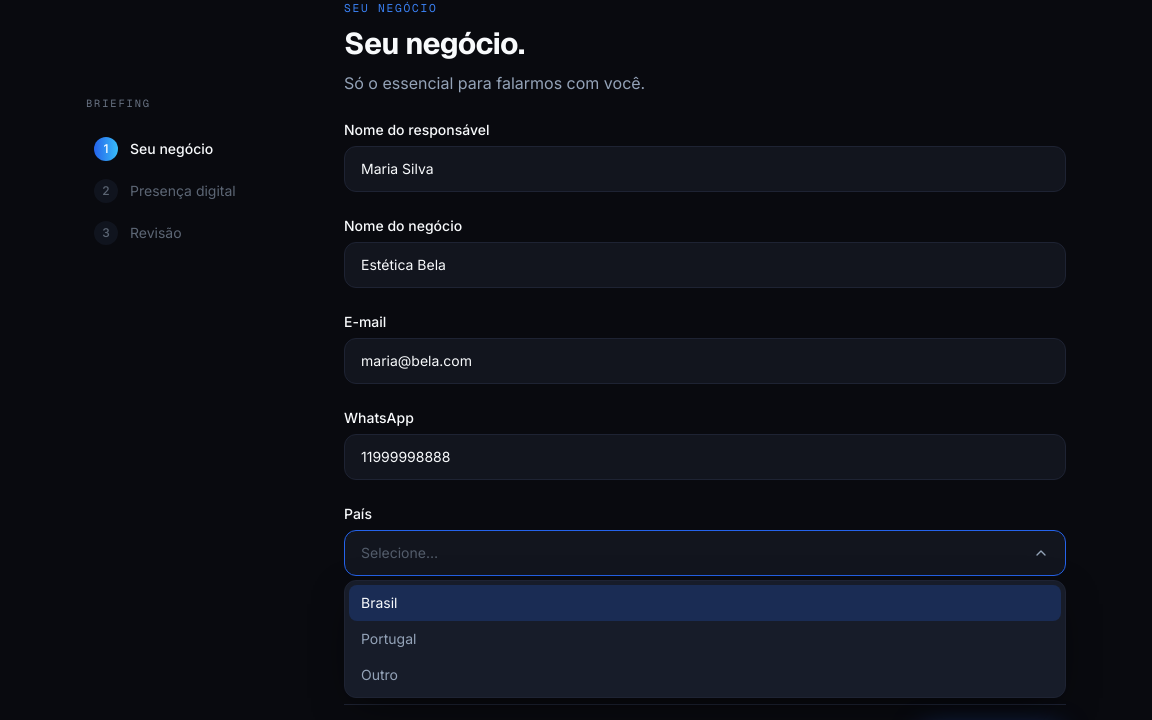
Scenario: BriefingForm (diagnostico) › requires privacy consent and then submits, redirecting on success
Earlier steps of the test are not shown.
Later steps or results of the test are not shown.
Step 1. Click the option "Brasil" → {"x": 379, "y": 602}, box [349,585,1061,621]
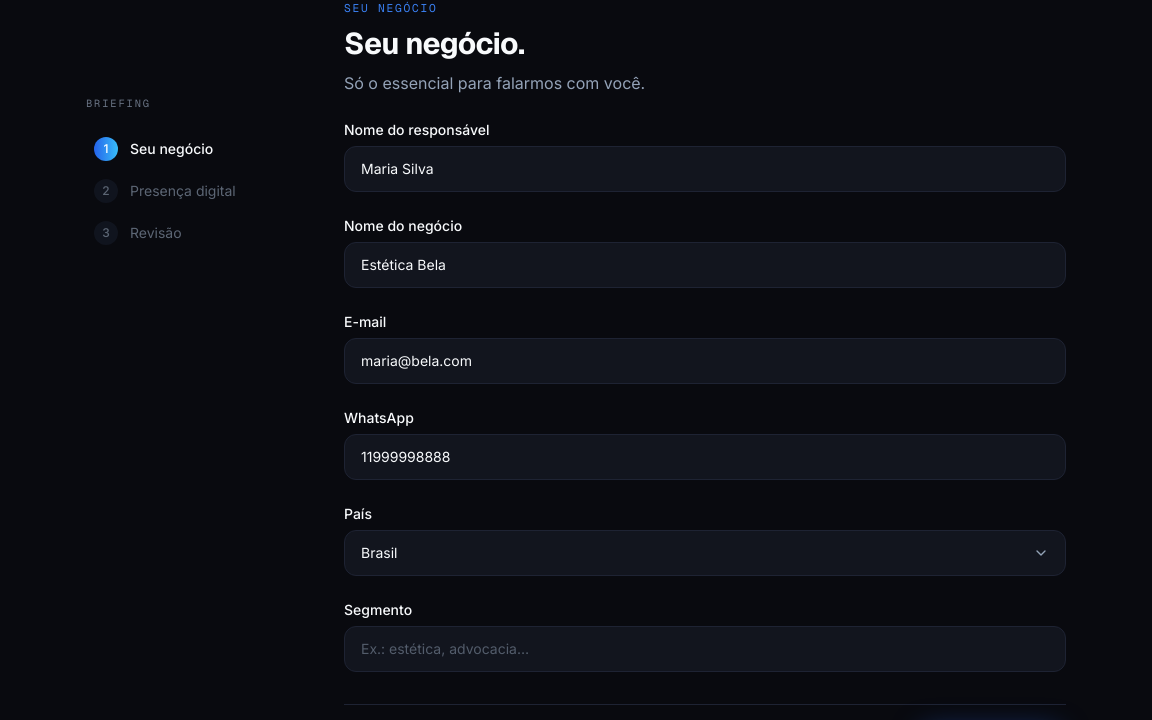
Step 2. Type "Estética" into the field labelled "Segmento" → {"x": 705, "y": 649}, box [344,626,1066,672]
(page scrolled)
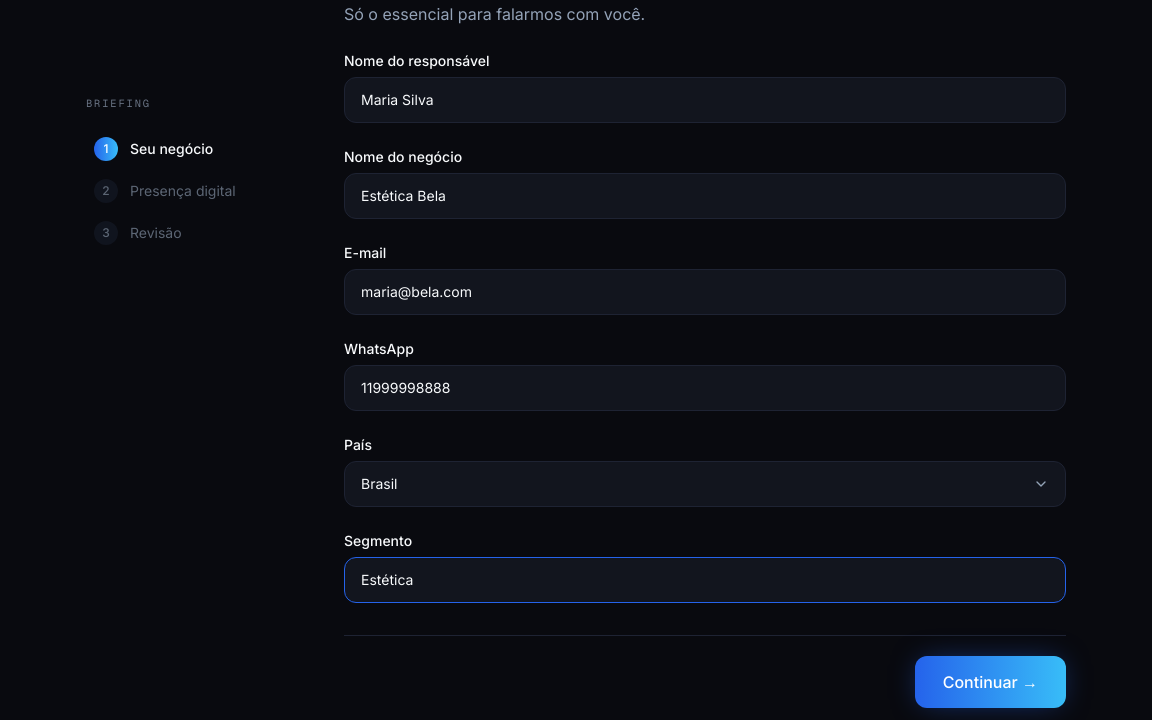
Step 3. Click the button "Continuar →" → {"x": 990, "y": 682}, box [915,656,1066,708]
(page scrolled)
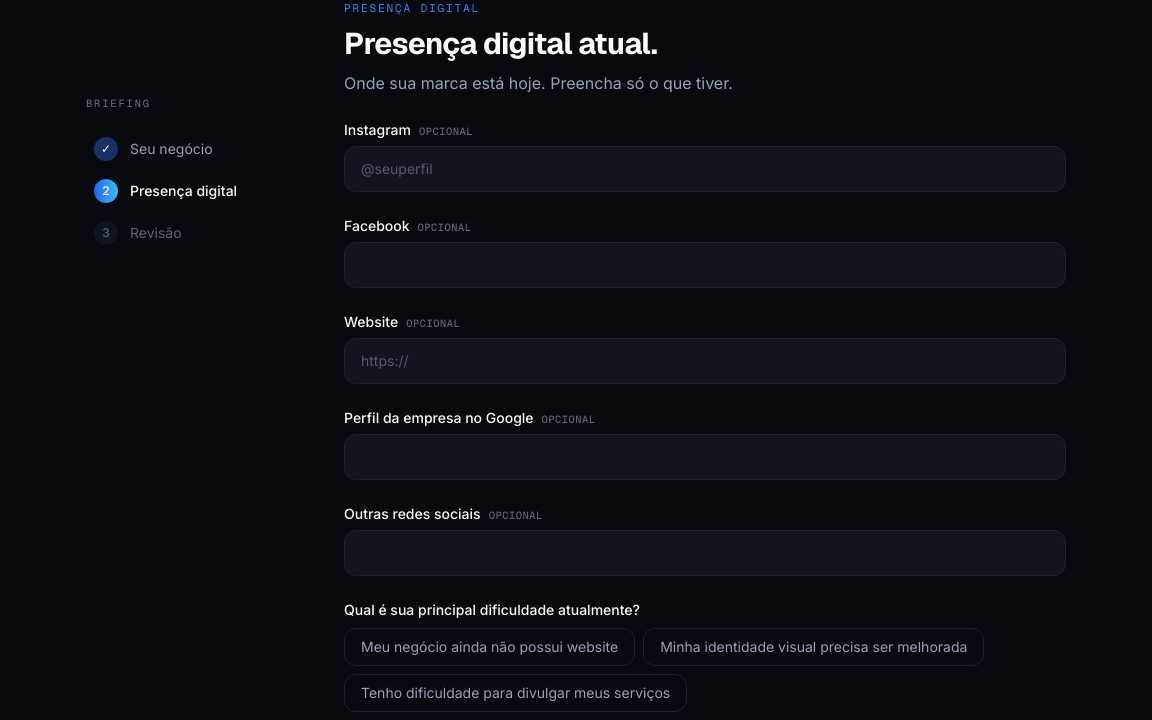
Expected: the heading "Presença digital atual." is shown, [344,24,657,63]
Step 4. Click the radio button labelled "Meu negócio ainda não possui website" → {"x": 490, "y": 647}, box [344,628,635,666]
(page scrolled)
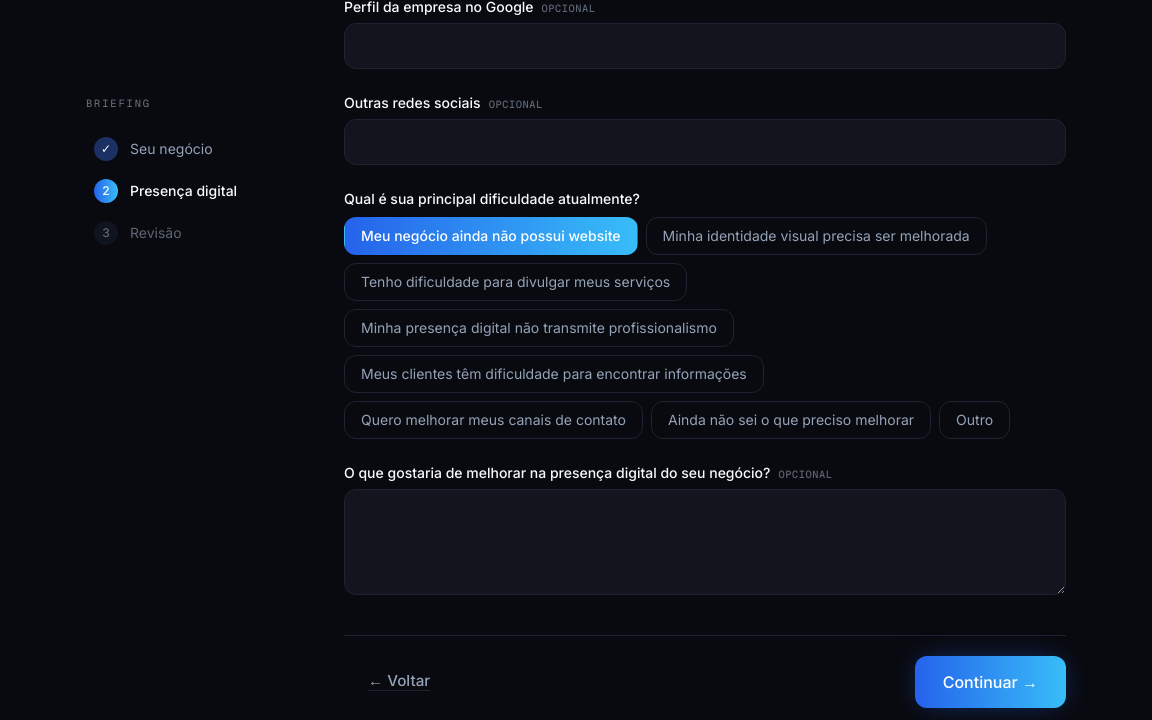
Step 5. Click the button "Continuar →" → {"x": 990, "y": 682}, box [915,656,1066,708]
(page scrolled)
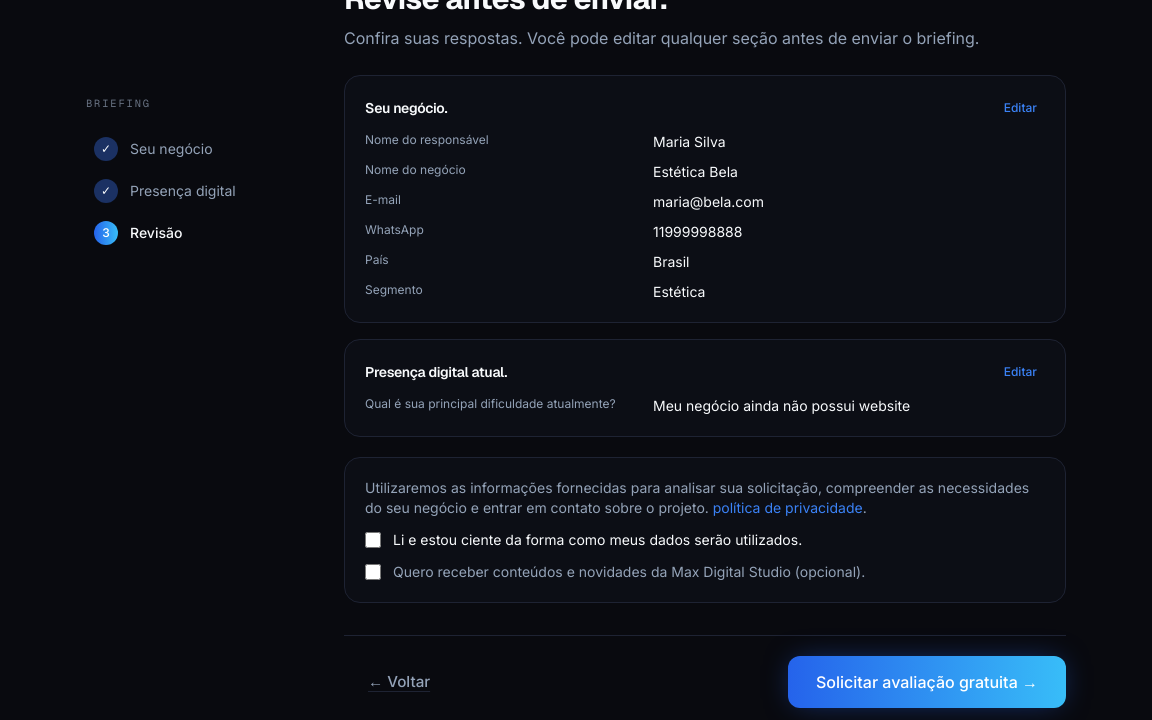
Step 6. Click the button "Solicitar avaliação gratuita →" → {"x": 927, "y": 682}, box [788,656,1066,708]
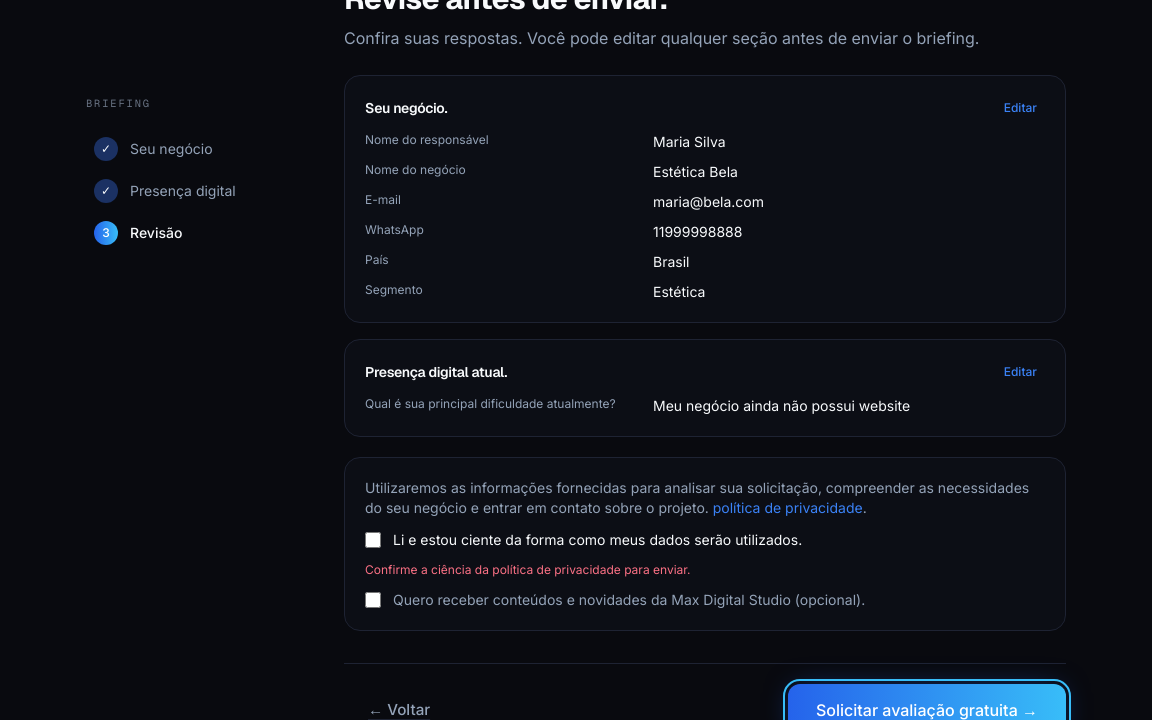
Expected: the text "Confirme a ciência da política de privacidade para enviar." is shown, [365,562,690,577]
